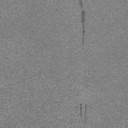red iron: (81, 10, 85, 36), (79, 0, 83, 8), (80, 104, 82, 117)
